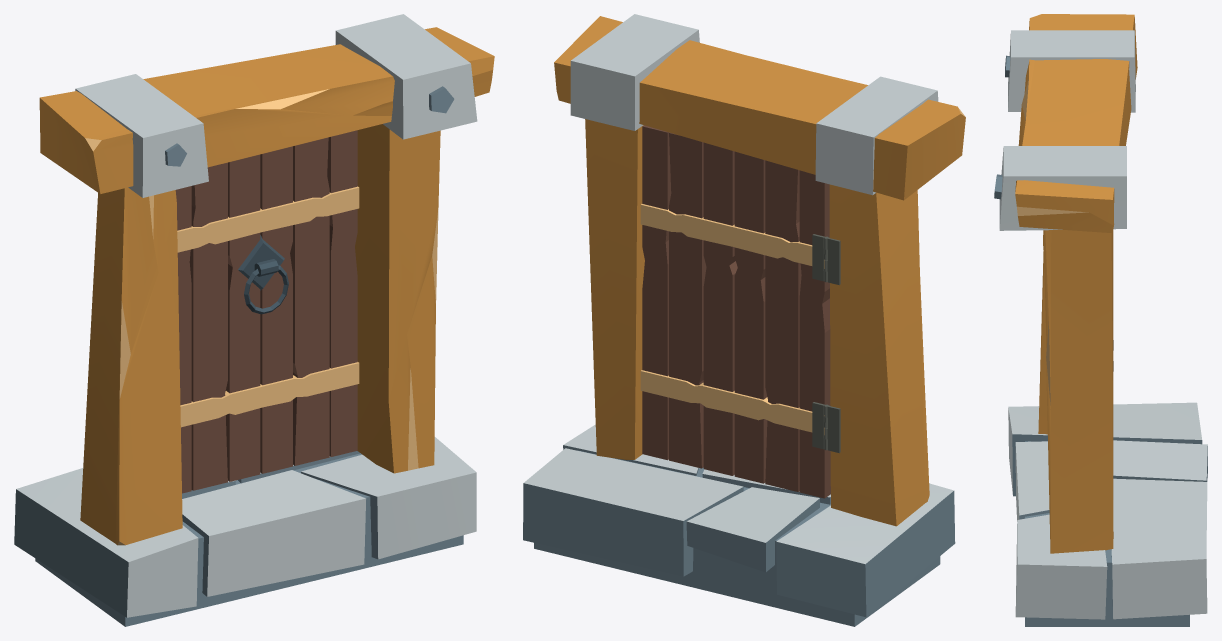
File: wizard_house_door.fbx
The picture shows the model from 3 angles, left to right: view 1: azimuth 30°, elevation 25°; view 2: azimuth 150°, elevation 25°; view 3: azimuth 270°, elevation 25°; orthographic projection. The views are drawn at different scales.
Parts seen in each view (by area): view 1: door_frame, door.004; view 2: door_frame, door.004; view 3: door_frame.
Boxes of the visible parts, box(x1,y1,x2,y2) form: door_frame: box(14, 14, 494, 626); door.004: box(175, 130, 359, 493); door_frame: box(523, 14, 965, 626); door.004: box(640, 125, 830, 498); door_frame: box(994, 14, 1207, 626).
Bounding box in the file's own units: 455 × 233 × 541.
